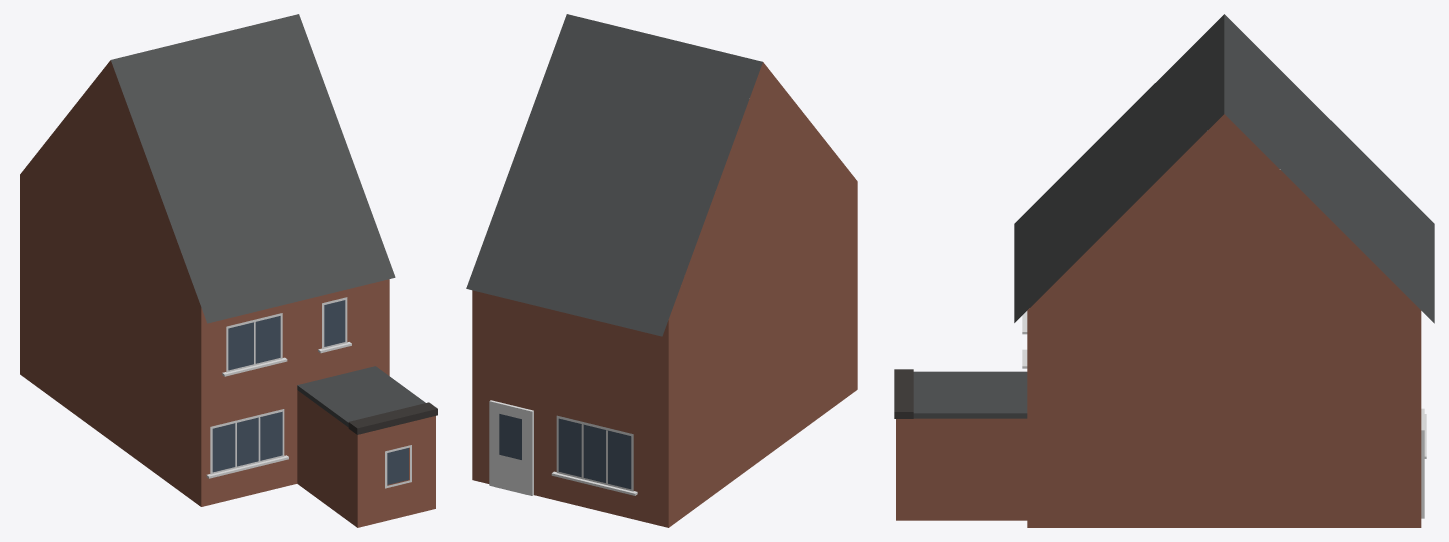
Rendered from zo-ho-annex__brick__2__gable__long__solid.glb.
The picture shows the model from 3 angles, left to right: view 1: azimuth 30°, elevation 25°; view 2: azimuth 150°, elevation 25°; view 3: azimuth 270°, elevation 25°; orthographic projection. The views are drawn at different scales.
Visible parts, largest first — view 1: zo-ho-annex__brick__2__gable__long__solid; view 2: zo-ho-annex__brick__2__gable__long__solid; view 3: zo-ho-annex__brick__2__gable__long__solid.
Part boxes in pixels (x1=…): zo-ho-annex__brick__2__gable__long__solid: x1=20, y1=14, x2=437, y2=527; zo-ho-annex__brick__2__gable__long__solid: x1=466, y1=14, x2=857, y2=527; zo-ho-annex__brick__2__gable__long__solid: x1=894, y1=14, x2=1434, y2=527.
Size of the model in its own units: 5.4 by 10.44 by 12.39.
